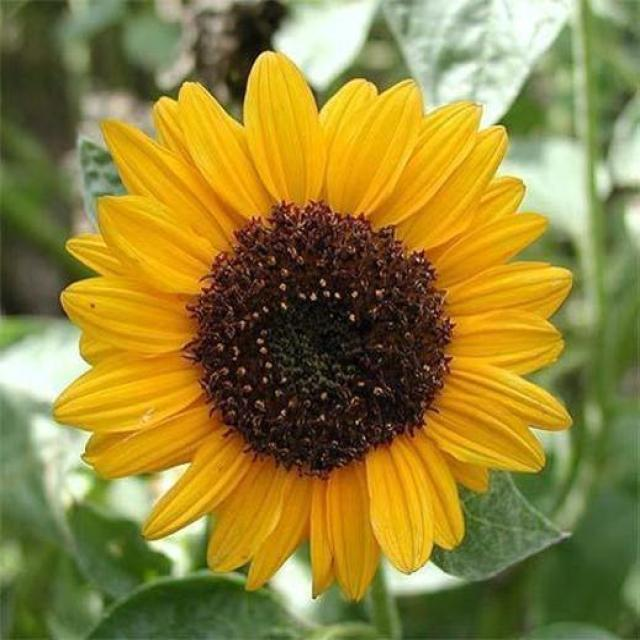sunflower: (41, 44, 597, 618)
